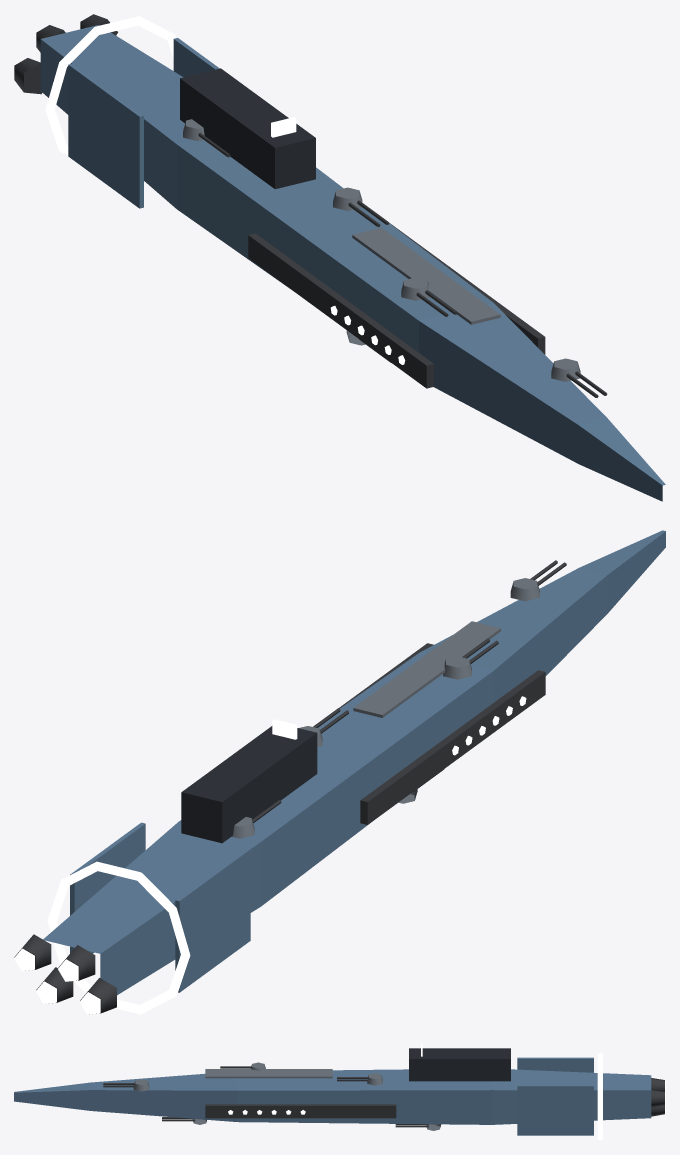
Rendered from space_ship_destroyer_mk6_lod1.glb.
The picture shows the model from 3 angles, top to bottom: view 1: azimuth 30°, elevation 25°; view 2: azimuth 150°, elevation 25°; view 3: azimuth 270°, elevation 25°; orthographic projection. The views are drawn at different scales.
Visible parts, largest first — view 1: body, turret_0, turret_4, turret_2, engine_0; view 2: body, engine_1, engine_3, engine_0, engine_2, turret_0, turret_2; view 3: body, turret_0, turret_4, engine_3, turret_1, turret_5, turret_2, engine_1.
Part boxes in pixels (x1=…): body: x1=40, y1=16, x2=665, y2=501; turret_0: x1=551, y1=358, x2=607, y2=397; turret_4: x1=333, y1=187, x2=388, y2=226; turret_2: x1=401, y1=277, x2=457, y2=316; engine_0: x1=14, y1=58, x2=42, y2=94; body: x1=43, y1=530, x2=665, y2=1014; engine_1: x1=58, y1=945, x2=95, y2=981; engine_3: x1=14, y1=934, x2=51, y2=970; engine_0: x1=80, y1=978, x2=116, y2=1014; engine_2: x1=36, y1=967, x2=73, y2=1003; turret_0: x1=510, y1=560, x2=566, y2=601; turret_2: x1=443, y1=638, x2=498, y2=679; body: x1=14, y1=1043, x2=651, y2=1140; turret_0: x1=103, y1=1079, x2=149, y2=1091; turret_4: x1=337, y1=1073, x2=382, y2=1085; engine_3: x1=651, y1=1089, x2=665, y2=1107; turret_1: x1=162, y1=1117, x2=206, y2=1124; turret_5: x1=395, y1=1124, x2=441, y2=1130; turret_2: x1=220, y1=1062, x2=265, y2=1070; engine_1: x1=651, y1=1078, x2=665, y2=1091.
Size of the model in its own units: 9.8 by 10.81 by 72.02.
